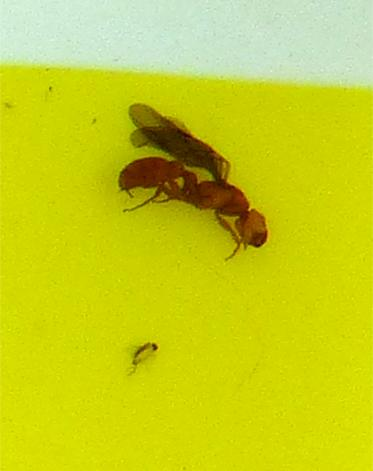Brachycera: (127, 336, 162, 371)
Hymenoptera: (100, 100, 273, 263)
